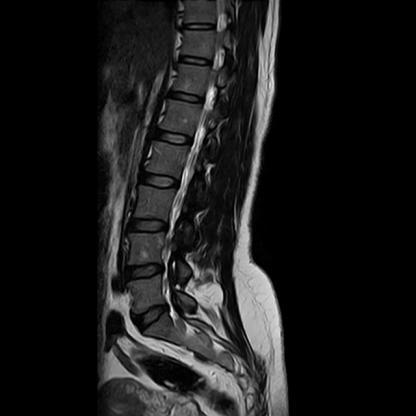Disc Bulgerotation: (126, 263, 163, 285), (135, 307, 173, 328)
